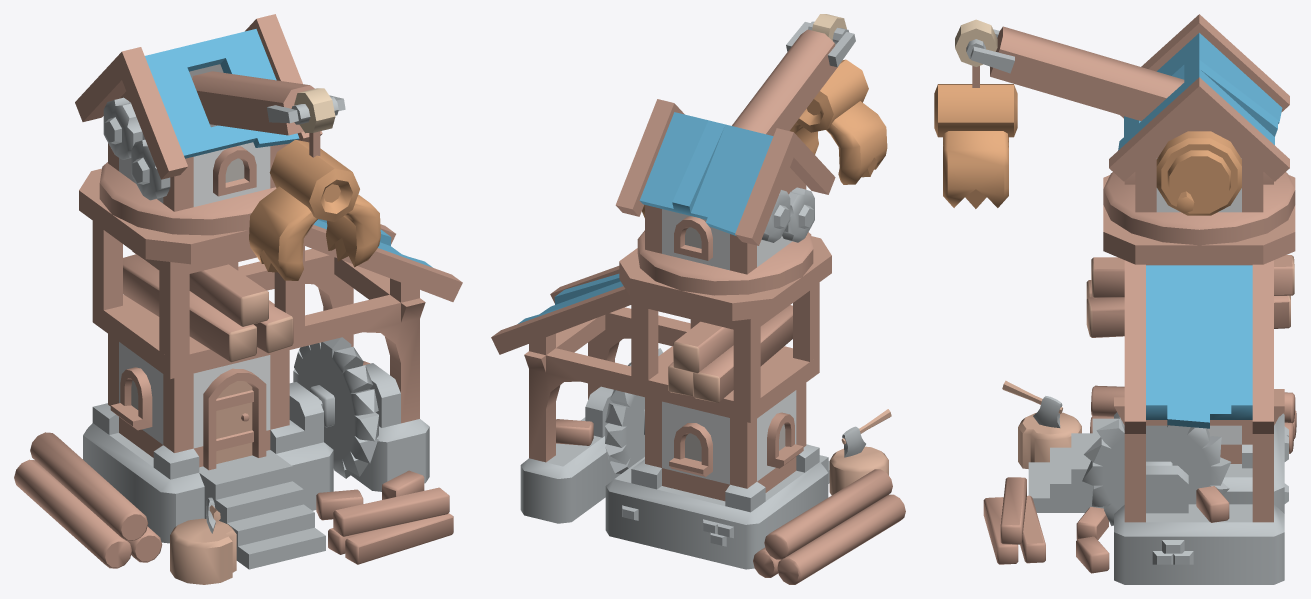
Rendered from lumbermill_part.glb.
The picture shows the model from 3 angles, left to right: view 1: azimuth 30°, elevation 25°; view 2: azimuth 150°, elevation 25°; view 3: azimuth 270°, elevation 25°; orthographic projection. The views are drawn at different scales.
Parts seen in each view (by area): view 1: X_building_lumbermill_blue, X_building_lumbermill_top_blue, X_building_lumbermill_saw_blue; view 2: X_building_lumbermill_blue, X_building_lumbermill_top_blue, X_building_lumbermill_saw_blue; view 3: X_building_lumbermill_blue, X_building_lumbermill_top_blue, X_building_lumbermill_saw_blue.
Part boxes in pixels (x1,y1,x2,y2): X_building_lumbermill_blue: (14,168,462,584); X_building_lumbermill_top_blue: (75,14,380,280); X_building_lumbermill_saw_blue: (293,337,378,478); X_building_lumbermill_blue: (491,236,905,584); X_building_lumbermill_top_blue: (615,14,887,295); X_building_lumbermill_saw_blue: (605,348,662,474); X_building_lumbermill_blue: (983,175,1296,584); X_building_lumbermill_top_blue: (934,14,1295,245); X_building_lumbermill_saw_blue: (1082,417,1231,525).
Size of the model in its own units: 1.37 by 1.71 by 1.19.
